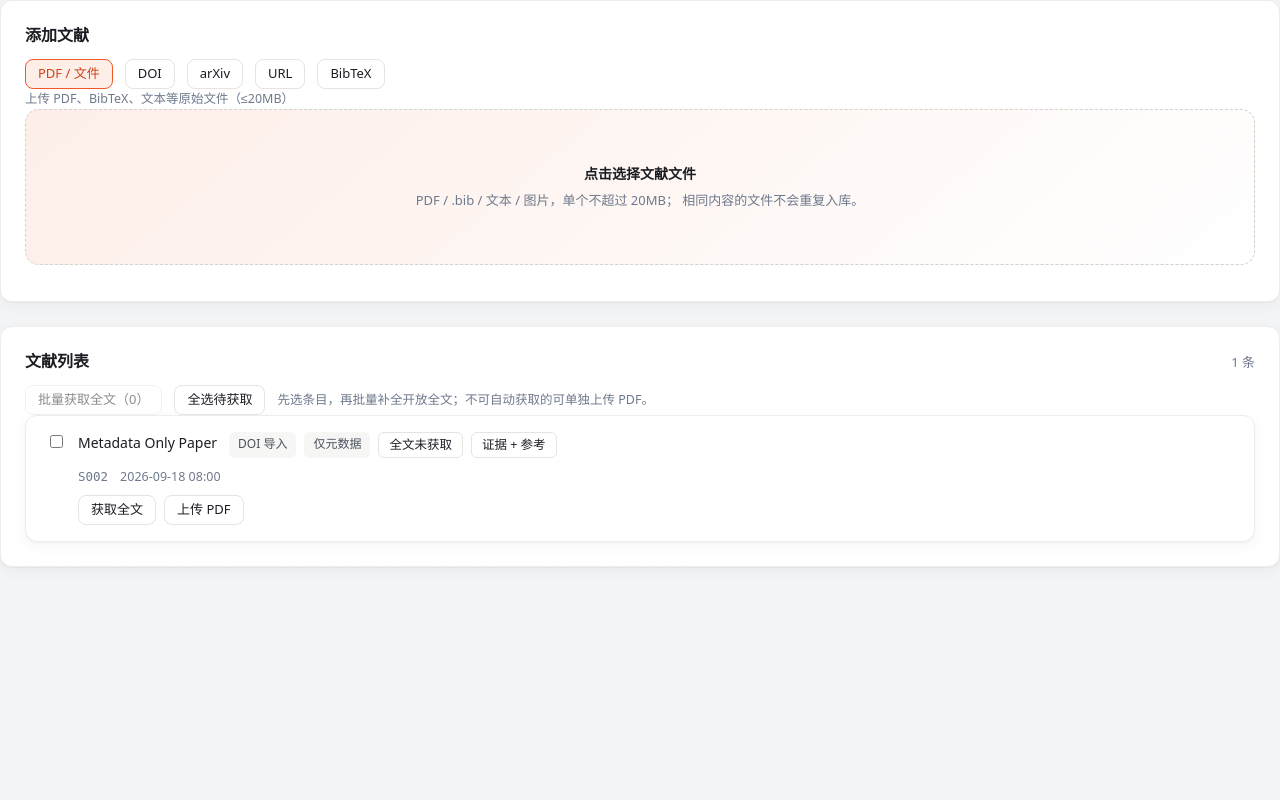
Test: SourcesPanel 单篇获取全文（M9.3） › 幂等结局（skipped_has_file）与失败（422）如实呈现，不粉饰
This screenshot has width=1280, height=800.
Expected: the heading "文献列表" is shown, [25,351,89,372]
Click the button with test id "resolve-fulltext-S002" at coordinates (117, 510), box [78,495,156,525]
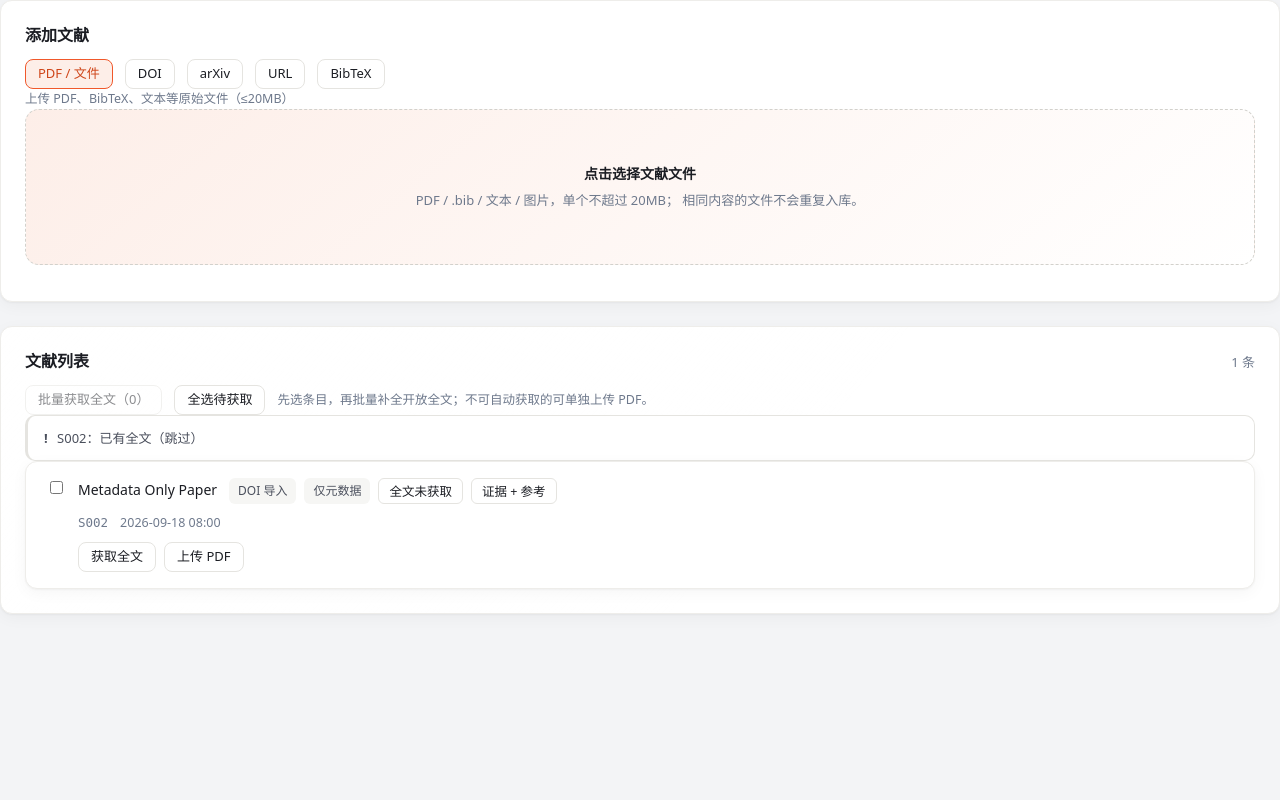
Now the text "! S002：已有全文（跳过）" is shown, box [44,429,204,447]
Click the button with test id "resolve-fulltext-S002" at coordinates (117, 557), box [78,542,156,572]
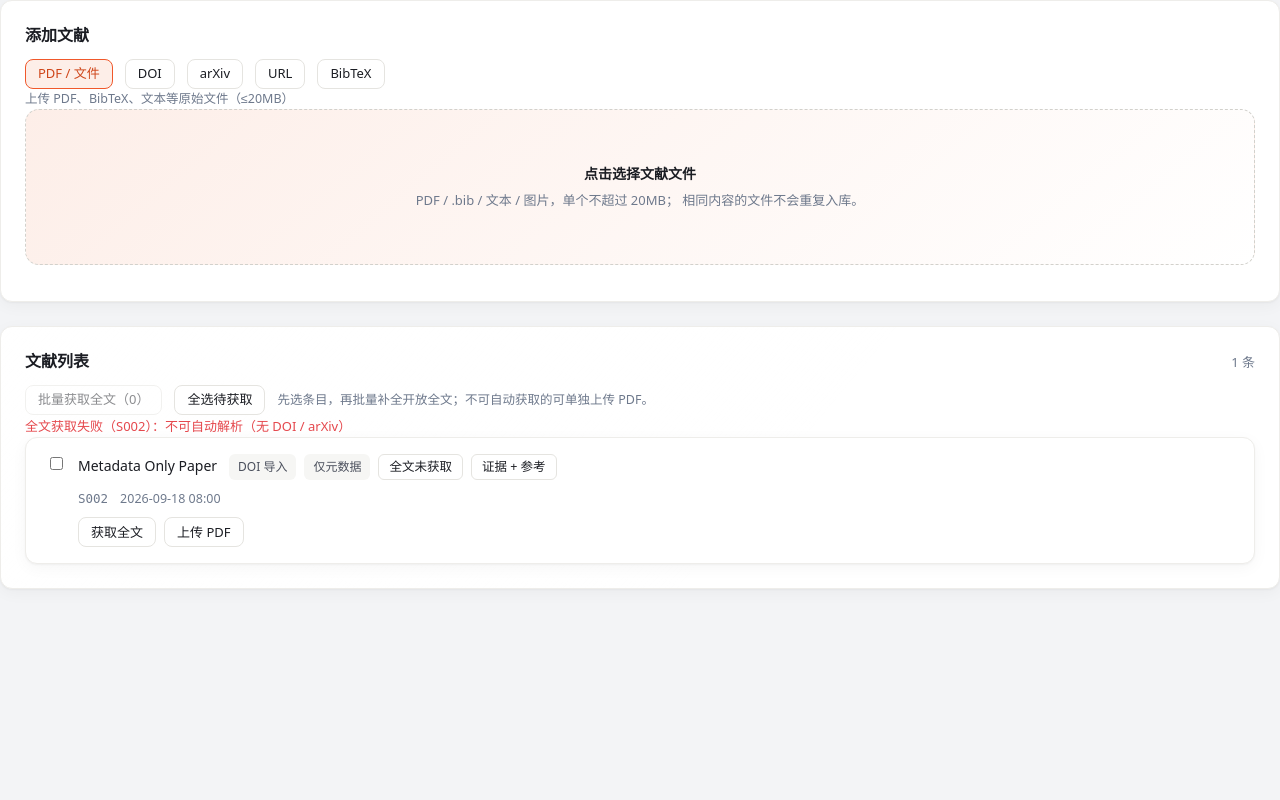
Now the text "全文获取失败（S002）：不可自动解析（无 DOI / arXiv）" is shown, box [25,417,351,435]
